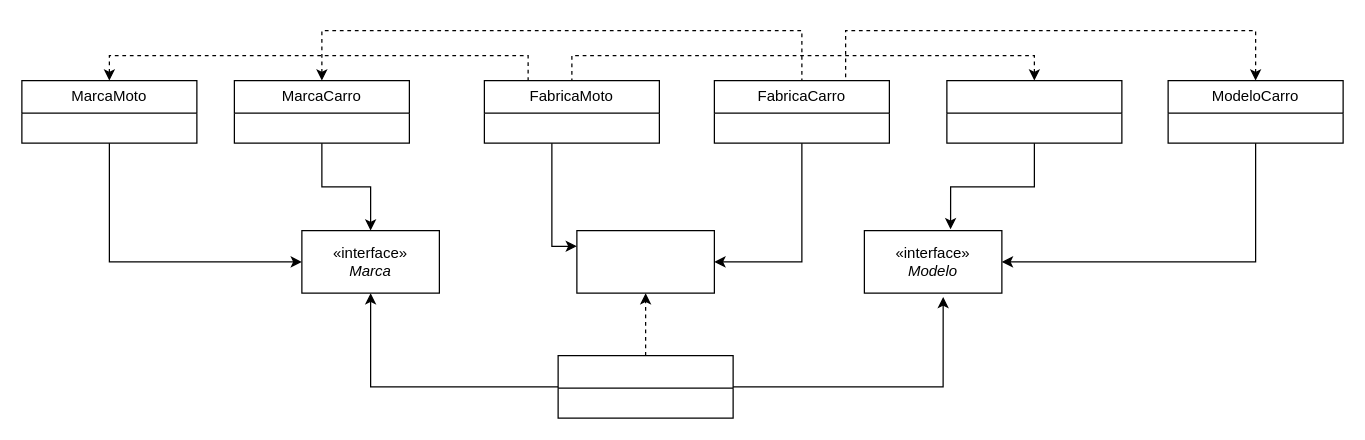
The diagram is 1365 pixels wide and 440 high, and some of its shapes have lost their labels. Each missing label, with the centre of its shape:
"ModeloMoto" belongs at (x=1034, y=111).
"Veiculo" belongs at (x=645, y=386).
"«interface» AbstractFactory" belongs at (x=645, y=261).
